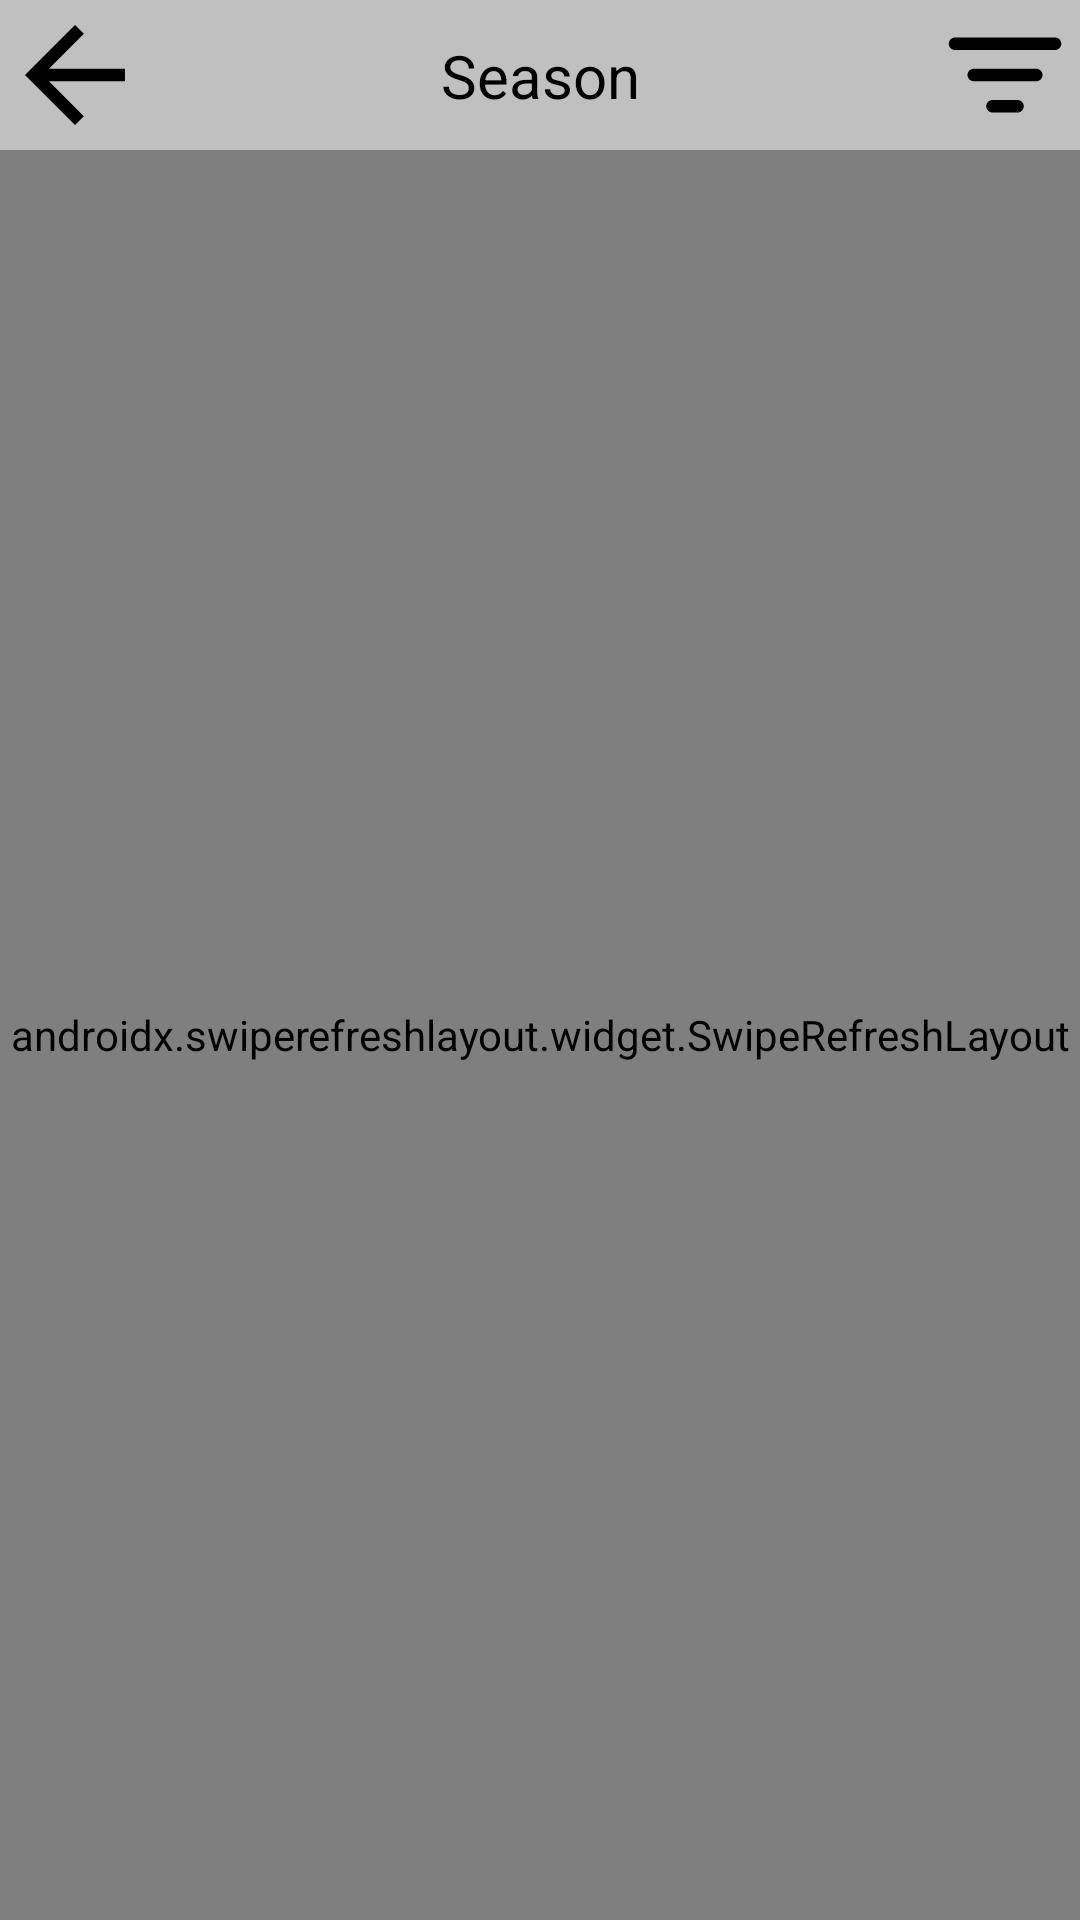

Icon click points for this 1080 x 1920 phone screenshot, format point (x, y):
Filter this list: point (1005, 75)
Previous page: point (75, 75)
